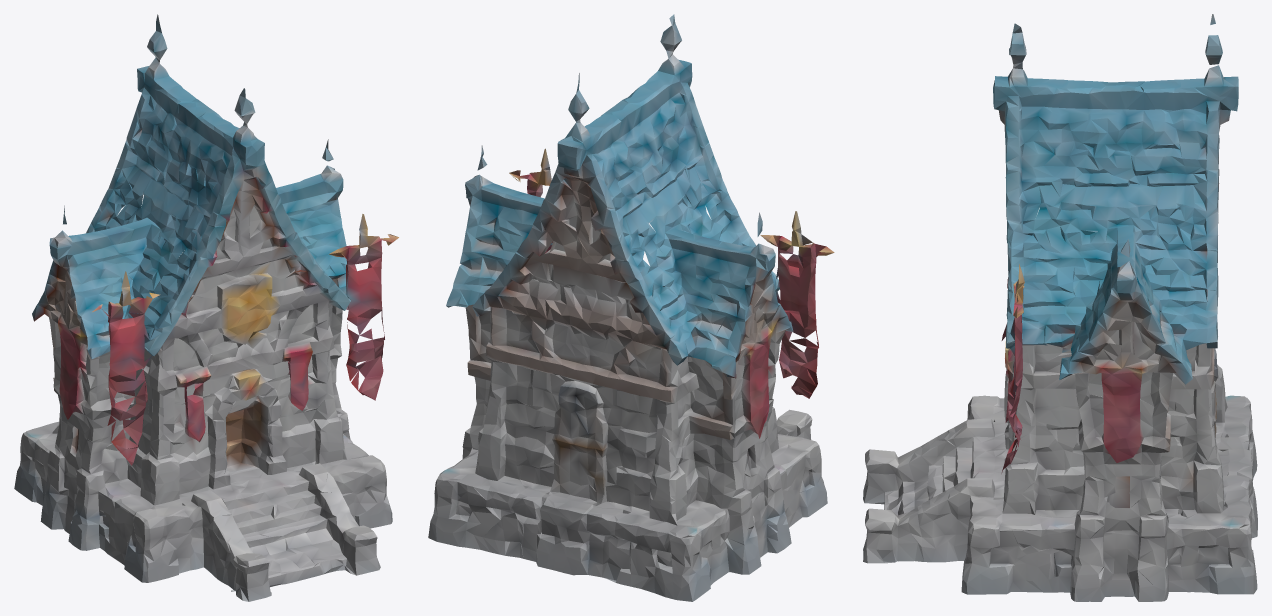
The model's file is building_alliance_hall_lod2.glb.
3 renders of one model, left to right at view 1: azimuth 30°, elevation 25°; view 2: azimuth 150°, elevation 25°; view 3: azimuth 270°, elevation 25°, orthographic. The views are drawn at different scales.
Visible parts, largest first — view 1: world; view 2: world; view 3: world.
Boxes of the visible parts, <box> form: world: <box>14,14,398,601</box>; world: <box>428,14,834,601</box>; world: <box>863,14,1257,601</box>.
Size of the model in its own units: 1.34 by 1.9 by 1.33.
